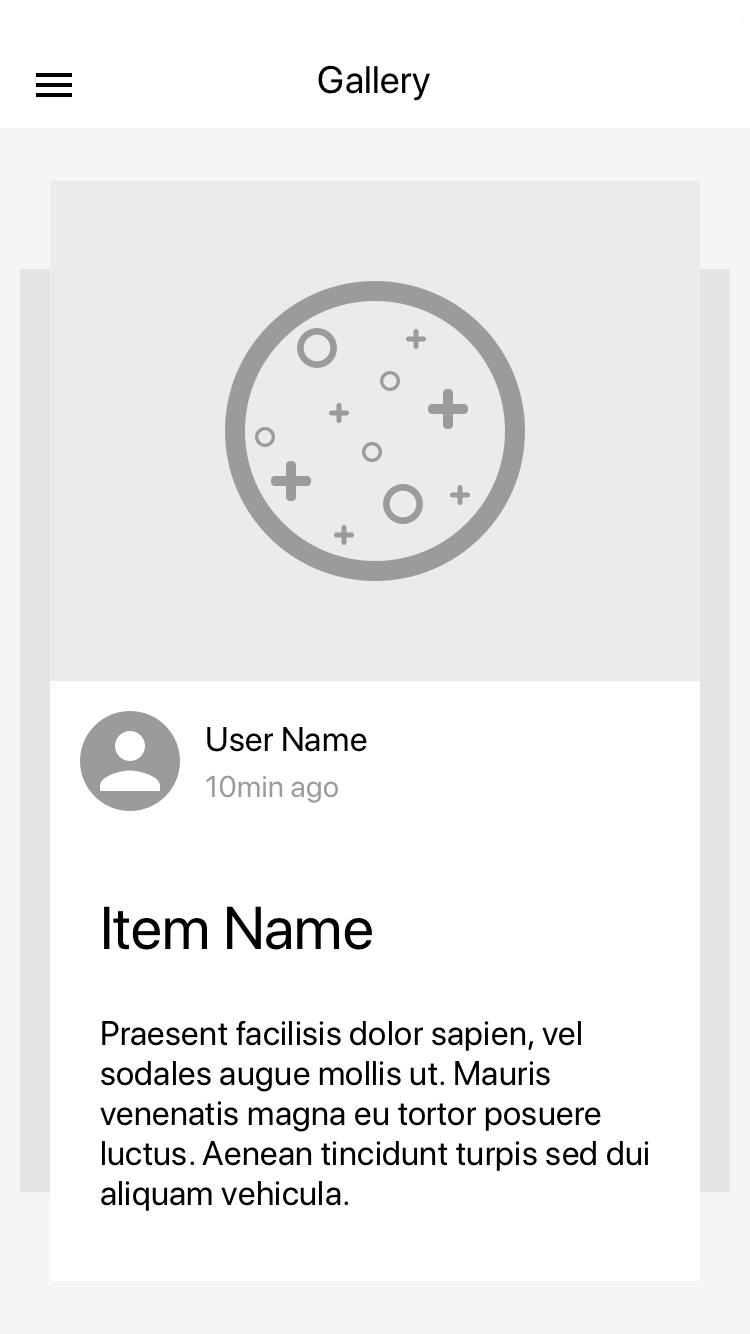Icon: (79, 709, 182, 813), (36, 73, 74, 99)
Image: (51, 181, 702, 682)
Text: (99, 1020, 649, 1213), (104, 905, 374, 951), (207, 726, 368, 753), (318, 65, 431, 102), (206, 775, 340, 804)
